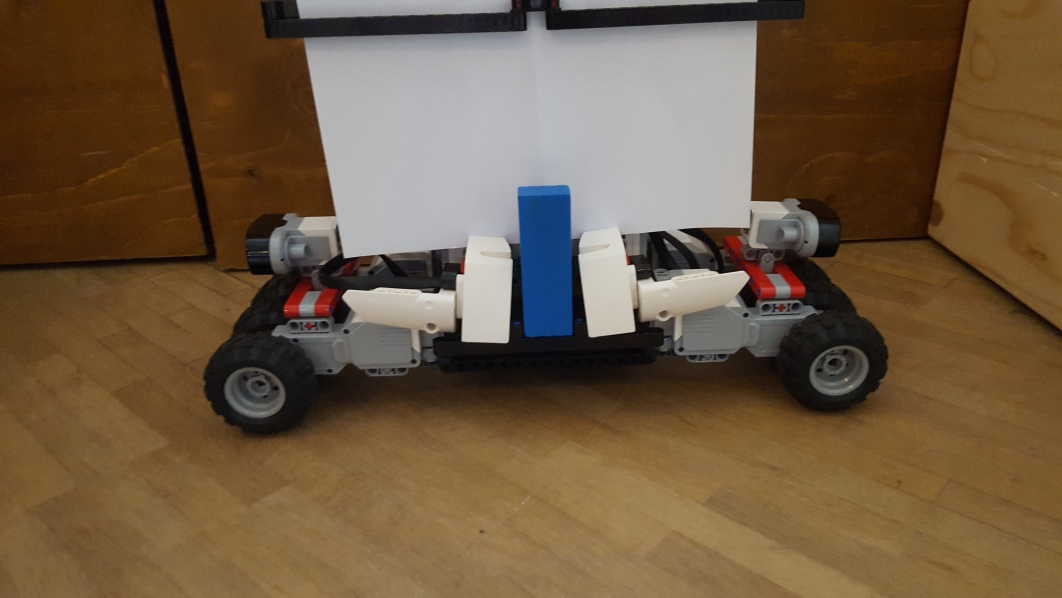beam: (513, 180, 580, 343)
